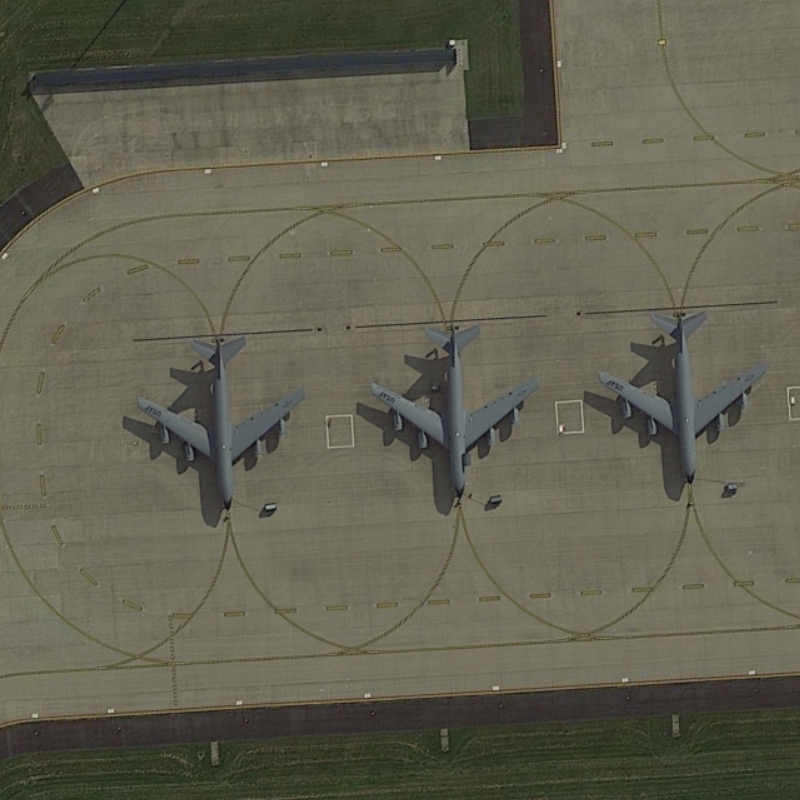A14: (593, 300, 774, 494), (127, 328, 308, 521), (365, 312, 543, 507)
